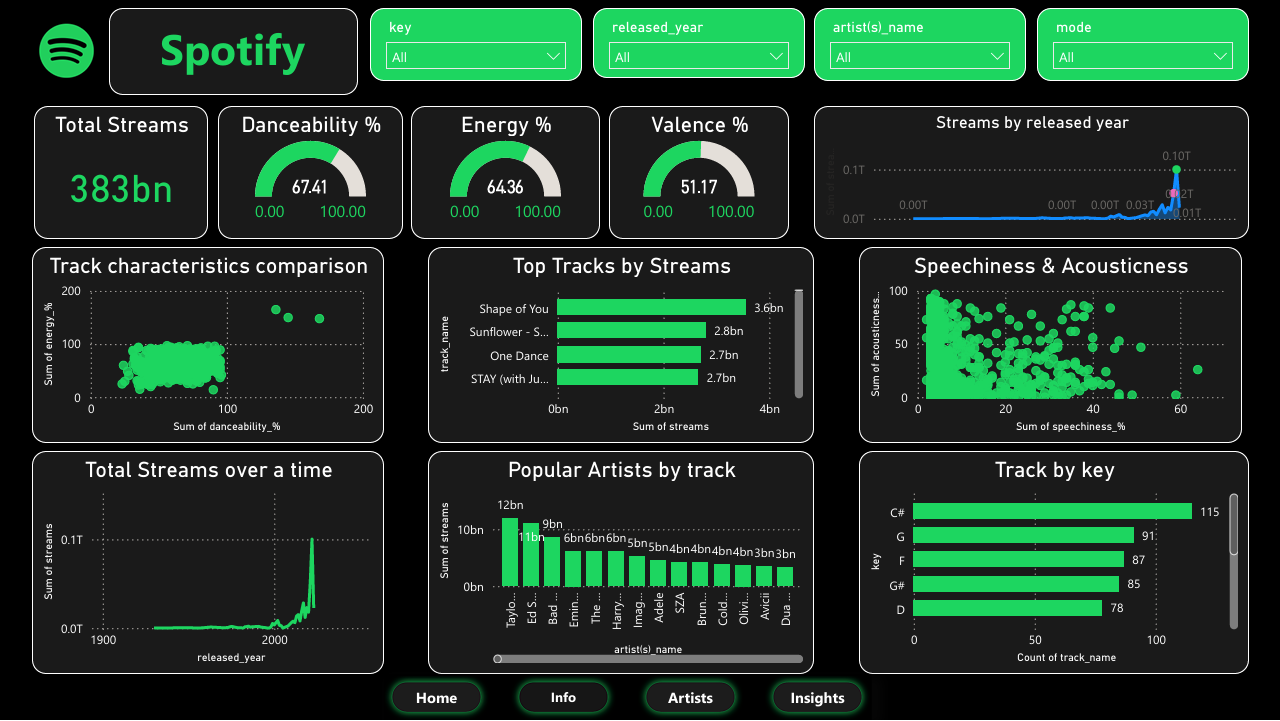

This screenshot's page, from the dashboard's own definition file:
{"tool":"powerbi","page":{"name":"Info","canvas":[1280,720],"ordinal":1},"visuals":[{"type":"slicer","fields":{"Values":["spotify-2023.key"]},"box":[368.6,7.8,212,72.9],"z":0},{"type":"slicer","fields":{"Values":["spotify-2023.released_year"]},"box":[592.3,7.8,212,70],"z":1000},{"type":"slicer","fields":{"Values":["spotify-2023.artist(s)_name"]},"box":[813.1,7.8,212,72.9],"z":2000},{"type":"slicer","fields":{"Values":["spotify-2023.mode"]},"box":[1035.9,7.8,212,72.9],"z":3000},{"type":"card","title":"Total Streams","fields":{"Values":["Sum(spotify-2023.streams)"]},"box":[33.1,106,174.1,133.3],"z":4000},{"type":"gauge","title":"Danceability %","fields":{"Y":["Avg(spotify-2023.danceability_%)"]},"box":[216.9,106,184.8,133.3],"z":5000},{"type":"gauge","title":"Energy %","fields":{"Y":["Avg(spotify-2023.energy_%)"]},"box":[410.5,106,188.7,133.3],"z":6000},{"type":"gauge","title":"Valence %","fields":{"Y":["Avg(spotify-2023.valence_%)"]},"box":[607.9,106,179.9,133.3],"z":7000},{"type":"areaChart","title":"Streams by released year","fields":{"Category":["spotify-2023.released_year"],"Y":["Sum(spotify-2023.streams)"]},"box":[813.1,106,434.8,133.3],"z":8000},{"type":"scatterChart","title":"Track characteristics comparison","fields":{"Category":["spotify-2023.streams"],"X":["Sum(spotify-2023.danceability_%)"],"Y":["Sum(spotify-2023.energy_%)"]},"box":[31.1,247.1,352.1,195.5],"z":9000},{"type":"clusteredBarChart","title":"Top Tracks by Streams","fields":{"Category":["spotify-2023.track_name"],"Y":["Sum(spotify-2023.streams)"]},"box":[427,247.1,386.1,195.5],"z":10000},{"type":"scatterChart","title":"Speechiness & Acousticness","fields":{"Category":["spotify-2023.streams"],"X":["Sum(spotify-2023.speechiness_%)"],"Y":["Sum(spotify-2023.acousticness_%)"]},"box":[857.9,247.1,383.2,195.5],"z":11000},{"type":"lineChart","title":"Total Streams over a time","fields":{"Category":["spotify-2023.released_year"],"Y":["Sum(spotify-2023.streams)"]},"box":[31.1,451.3,352.1,222.7],"z":12000},{"type":"columnChart","title":"Popular Artists by track","fields":{"Y":["Sum(spotify-2023.streams)"],"Category":["spotify-2023.artist(s)_name"]},"box":[427,451.3,386.1,222.7],"z":13000},{"type":"clusteredBarChart","title":"Track by key","fields":{"Category":["spotify-2023.key"],"Y":["CountNonNull(spotify-2023.track_name)"]},"box":[857.9,451.3,390,222.7],"z":14000},{"type":"image","box":[0,13.6,131.3,72.9],"z":15000},{"type":"textbox","box":[108,7.8,249,87.5],"z":16000},{"type":"pageNavigator","box":[383.2,674,487.3,45.7],"z":17000}]}

Visuals, with their boxes in screenshot pixels (x1, y1, x2, y2), scaled from the page's 1280x720 canvas onto the 1280x721 screenshot:
slicer - spotify-2023.key: 369, 8, 581, 81
slicer - spotify-2023.released_year: 592, 8, 804, 78
slicer - spotify-2023.artist(s)_name: 813, 8, 1025, 81
slicer - spotify-2023.mode: 1036, 8, 1248, 81
"Total Streams" card: 33, 106, 207, 240
"Danceability %" gauge: 217, 106, 402, 240
"Energy %" gauge: 410, 106, 599, 240
"Valence %" gauge: 608, 106, 788, 240
"Streams by released year" areaChart: 813, 106, 1248, 240
"Track characteristics comparison" scatterChart: 31, 247, 383, 443
"Top Tracks by Streams" clusteredBarChart: 427, 247, 813, 443
"Speechiness & Acousticness" scatterChart: 858, 247, 1241, 443
"Total Streams over a time" lineChart: 31, 452, 383, 675
"Popular Artists by track" columnChart: 427, 452, 813, 675
"Track by key" clusteredBarChart: 858, 452, 1248, 675
image: 0, 14, 131, 87
textbox: 108, 8, 357, 95
pageNavigator: 383, 675, 870, 720
